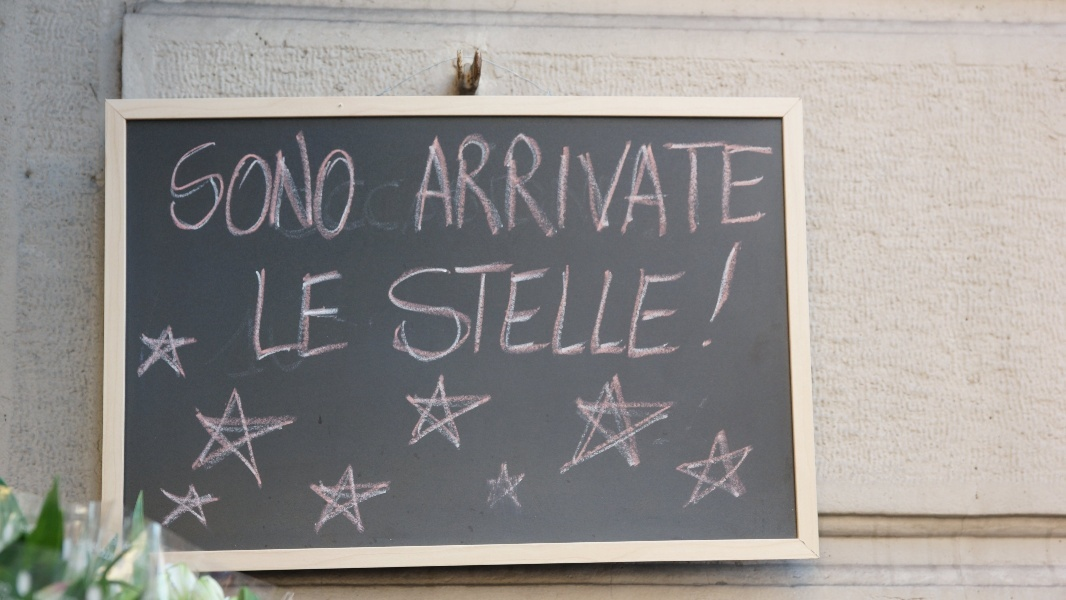text: (401, 240, 416, 367), (417, 240, 432, 367), (433, 240, 448, 367), (449, 240, 464, 367), (465, 240, 480, 367), (481, 240, 496, 367), (497, 240, 512, 367), (513, 240, 528, 367), (529, 240, 544, 367), (545, 240, 560, 367), (561, 240, 576, 367), (577, 240, 592, 367), (593, 240, 608, 367), (609, 240, 624, 367), (625, 240, 640, 367), (641, 240, 656, 367), (657, 240, 672, 367), (673, 240, 688, 367), (689, 240, 704, 367), (705, 240, 720, 367), (721, 240, 736, 367), (177, 128, 192, 250), (193, 128, 208, 250), (209, 128, 224, 250), (225, 128, 240, 250), (241, 128, 256, 250), (257, 128, 272, 250), (273, 128, 288, 250), (289, 128, 304, 250), (305, 128, 320, 250), (321, 128, 336, 250), (337, 128, 352, 250), (386, 240, 400, 367), (433, 133, 448, 240), (449, 133, 464, 240), (465, 133, 480, 240), (481, 133, 496, 240), (497, 133, 512, 240), (513, 133, 528, 240), (529, 133, 544, 240), (545, 133, 560, 240), (561, 133, 576, 240), (577, 133, 592, 240), (593, 133, 608, 240), (609, 133, 624, 240), (625, 133, 640, 240), (641, 133, 656, 240), (657, 133, 672, 240), (673, 133, 688, 240), (689, 133, 704, 240), (705, 133, 720, 240), (721, 133, 736, 240), (737, 133, 752, 240), (753, 133, 768, 240), (257, 267, 272, 364), (273, 267, 288, 364), (289, 267, 304, 364), (305, 267, 320, 364), (321, 267, 336, 364), (337, 267, 352, 364), (167, 128, 176, 250), (737, 240, 744, 367), (353, 128, 359, 250), (427, 133, 432, 240), (769, 133, 773, 240), (253, 267, 256, 364)
